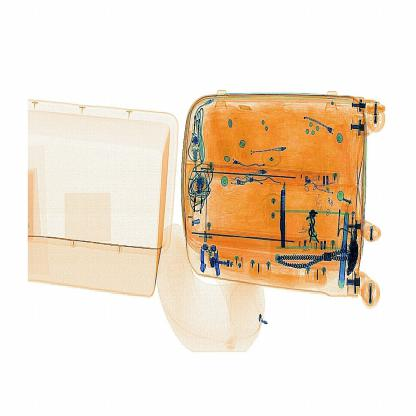pliers: (275, 180, 290, 252)
